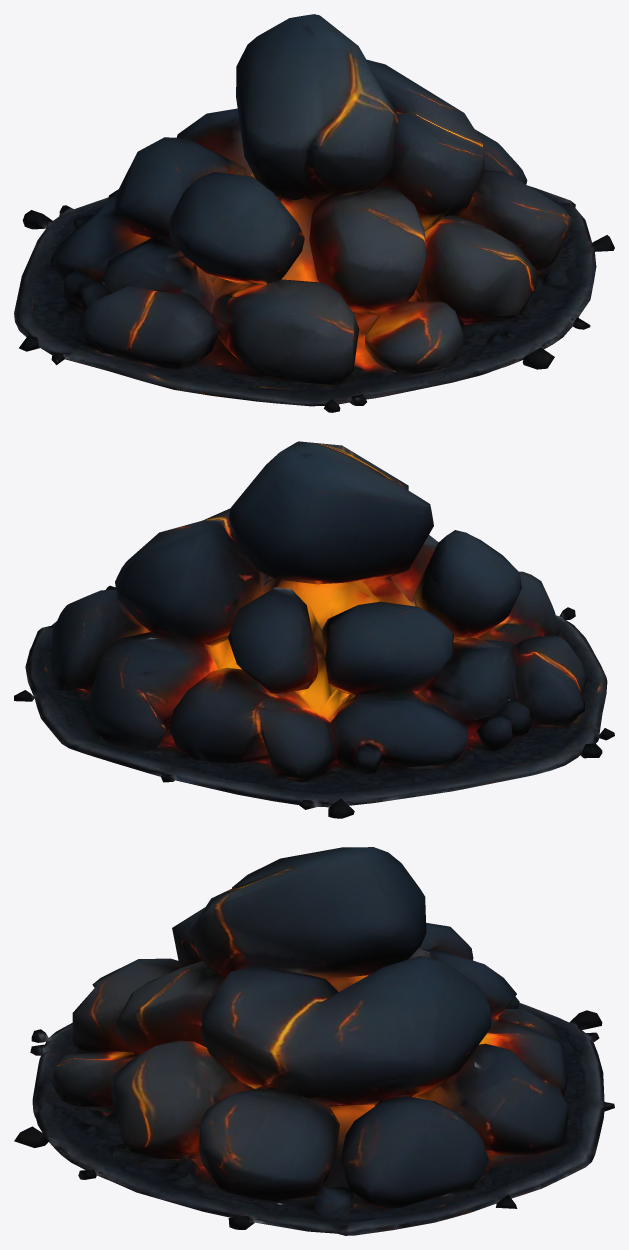
Rendered from CoolingRocks.opt.glb.
3 renders of one model, top to bottom at view 1: azimuth 30°, elevation 25°; view 2: azimuth 150°, elevation 25°; view 3: azimuth 270°, elevation 25°, orthographic. The views are drawn at different scales.
Visible parts, largest first — view 1: node_0; view 2: node_0; view 3: node_0.
Part boxes in pixels (x1,y1,x2,y2): node_0: [14, 14, 614, 412]; node_0: [14, 441, 614, 818]; node_0: [14, 847, 614, 1235].
Bounding box in the file's own units: 1.09 × 0.4592 × 0.9765.
Materials: 1 (1 with a texture image).
